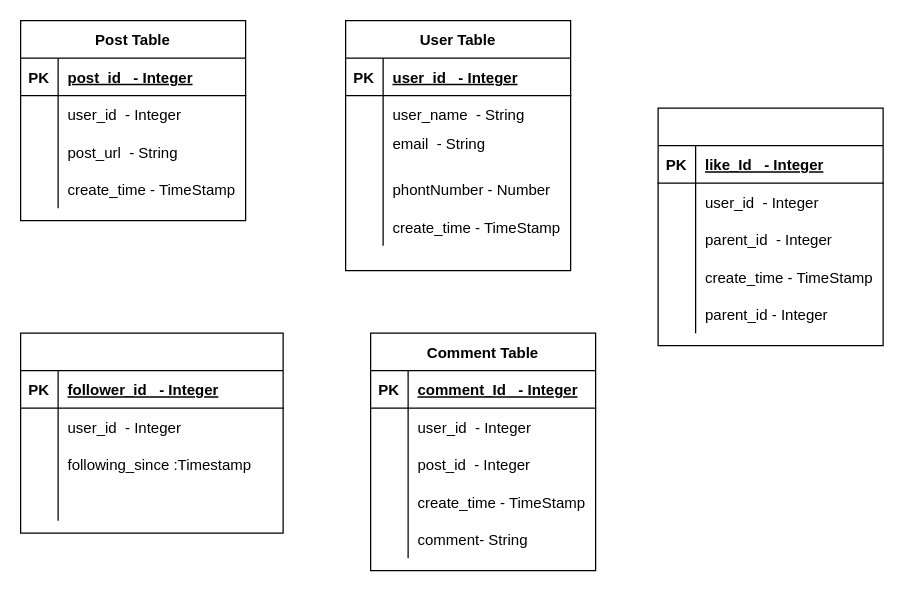
Some shapes in this 904 by 591 pixel diagram are drawn without their labels. The box of each missing label's shape, as (x1, y1, x2, y2) in pixels:
Follower Table: (19, 332, 283, 533)
Like Table: (657, 107, 883, 346)
